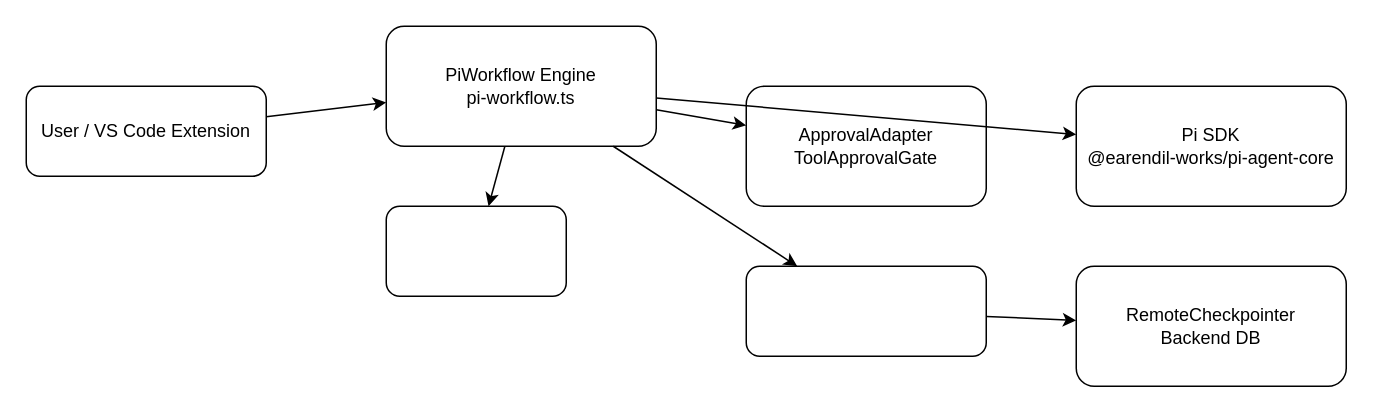
Image size: 1373x413. Some labels were removed from this diagram. Here are the shapes that lost their labels. From the top down, the box of each, then its label:
(385, 205, 566, 296): StateAdapter
(745, 265, 986, 356): CheckpointerAdapter
